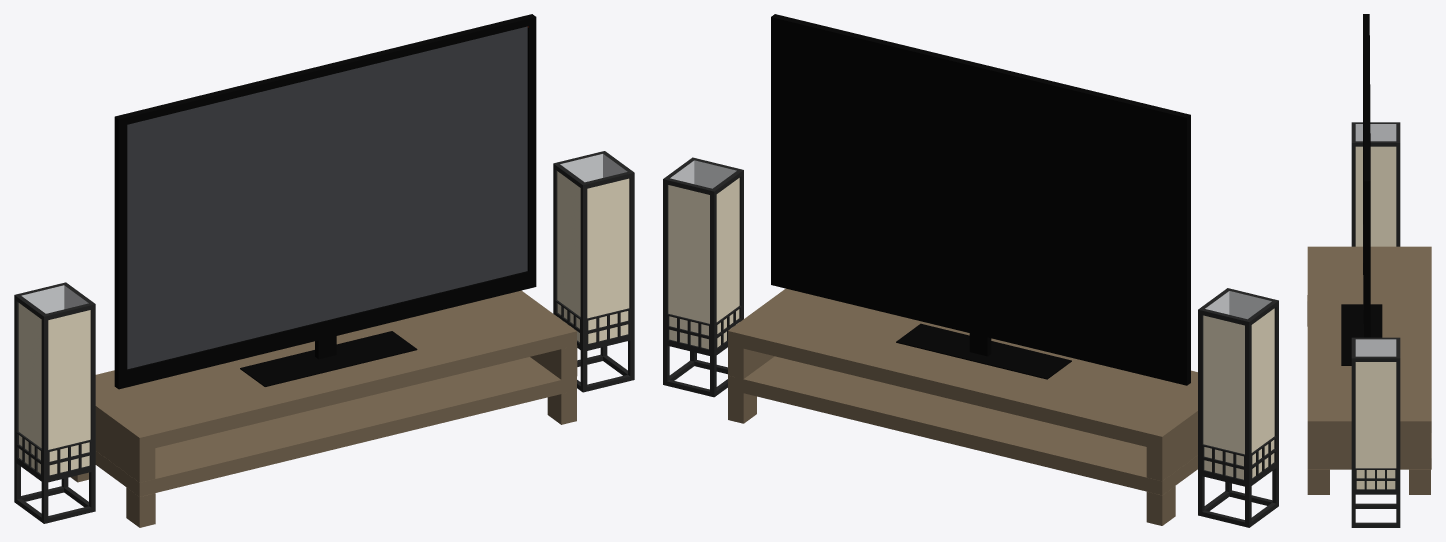
Rendered from Accesories_Entertainment_unit_A.glb.
The picture shows the model from 3 angles, left to right: view 1: azimuth 30°, elevation 25°; view 2: azimuth 150°, elevation 25°; view 3: azimuth 270°, elevation 25°; orthographic projection. The views are drawn at different scales.
Parts seen in each view (by area): view 1: Accesories_Entertainment_unit_A; view 2: Accesories_Entertainment_unit_A; view 3: Accesories_Entertainment_unit_A.
Part boxes in pixels (box(x1,y1,x2,y2)): Accesories_Entertainment_unit_A: box(14, 14, 634, 527); Accesories_Entertainment_unit_A: box(663, 14, 1278, 527); Accesories_Entertainment_unit_A: box(1307, 14, 1431, 527).
Size of the model in its own units: 3.35 by 2.06 by 0.7438.
1 material, 1 textured.
